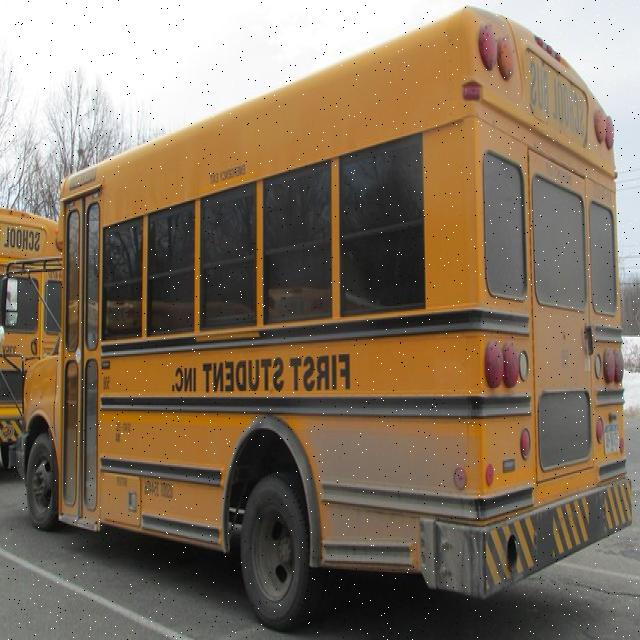Bus: (27, 5, 626, 620), (0, 207, 60, 467), (0, 208, 60, 260)
